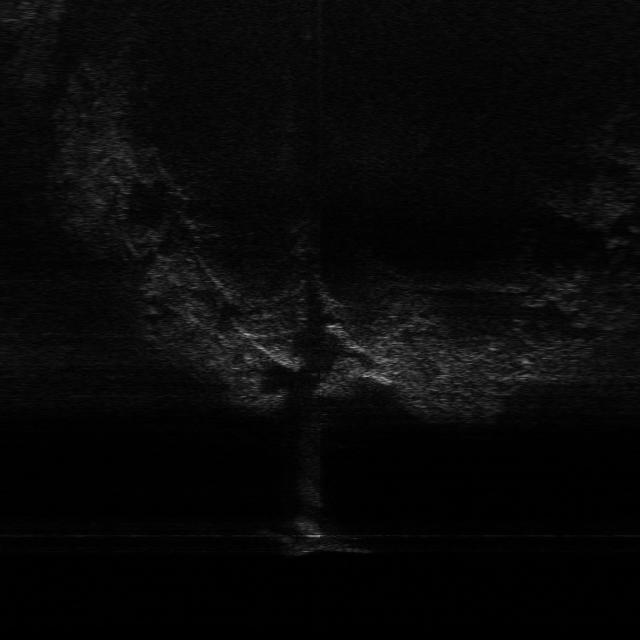plane: (257, 516, 374, 556)
